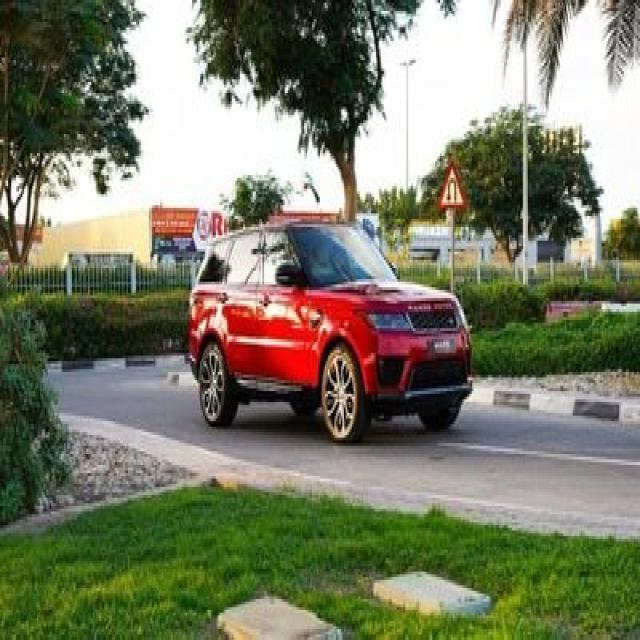red: (178, 159, 472, 479)
